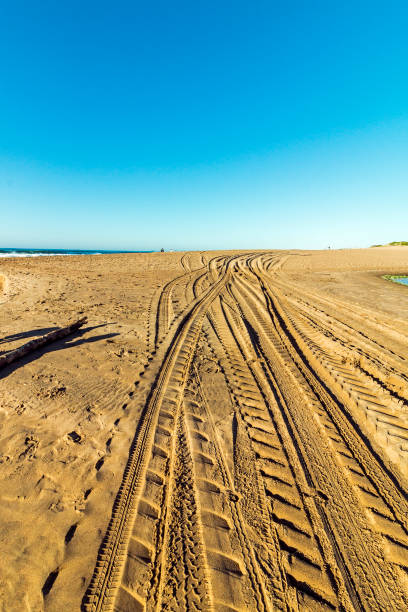vehicle_track: (83, 252, 407, 611), (84, 268, 228, 611), (211, 305, 350, 608), (248, 300, 405, 545), (266, 291, 407, 526), (279, 291, 407, 460), (194, 369, 283, 610), (285, 302, 407, 462), (147, 400, 212, 610), (286, 296, 407, 401), (274, 271, 405, 364), (153, 260, 211, 347), (154, 271, 198, 347)
